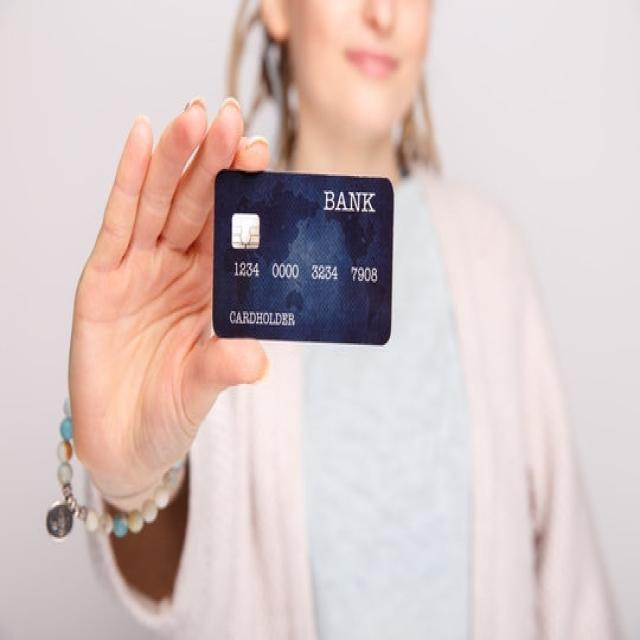payment_card: (211, 167, 394, 346)
